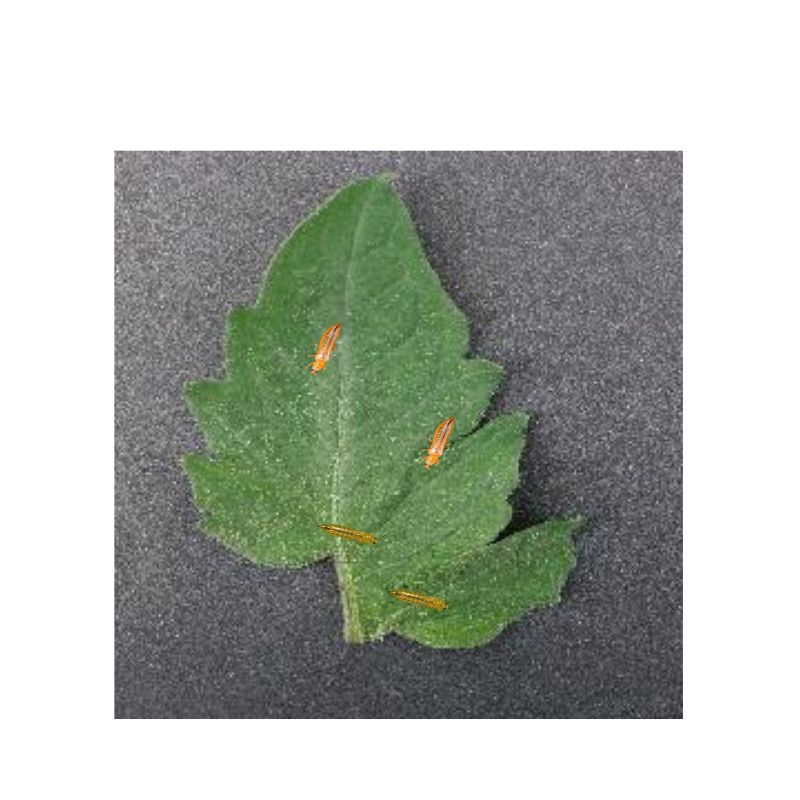thrips: (305, 321, 344, 375), (419, 415, 454, 469), (318, 522, 379, 549), (392, 587, 449, 615)
